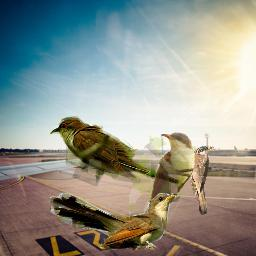Cuckoo: (50, 116, 186, 187), (129, 132, 195, 252), (50, 193, 179, 250), (189, 146, 214, 215)
